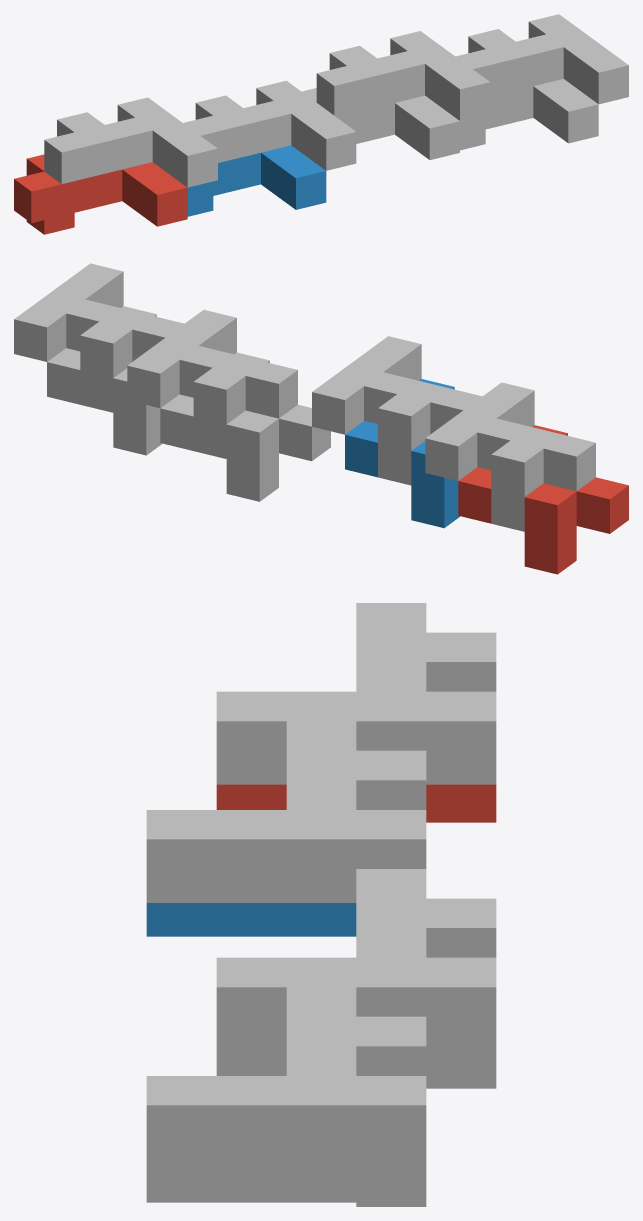
Rendered from tiling.obj.
3 renders of one model, top to bottom at view 1: azimuth 30°, elevation 25°; view 2: azimuth 150°, elevation 25°; view 3: azimuth 270°, elevation 25°, orthographic. The views are drawn at different scales.
Visible parts, largest first — view 1: copy_1_domain_3, copy_1_domain_7, copy_1_domain_4, copy_1_domain_8, copy_1_domain_1, copy_1_domain_2, copy_1_domain_6, copy_1_domain_5; view 2: copy_1_domain_3, copy_1_domain_7, copy_1_domain_4, copy_1_domain_8, copy_1_domain_1, copy_1_domain_5, copy_1_domain_6, copy_1_domain_2; view 3: copy_1_domain_8, copy_1_domain_4, copy_1_domain_3, copy_1_domain_7, copy_1_domain_6, copy_1_domain_2, copy_1_domain_1, copy_1_domain_5.
Boxes of the visible parts, x1,y1,x2,y2 form: copy_1_domain_3: [44, 97, 217, 187]; copy_1_domain_7: [316, 31, 490, 120]; copy_1_domain_4: [183, 80, 356, 170]; copy_1_domain_8: [455, 14, 628, 104]; copy_1_domain_1: [14, 154, 187, 234]; copy_1_domain_2: [187, 145, 326, 216]; copy_1_domain_6: [460, 79, 598, 150]; copy_1_domain_5: [302, 88, 459, 159]; copy_1_domain_3: [425, 382, 595, 531]; copy_1_domain_7: [127, 310, 297, 458]; copy_1_domain_4: [312, 336, 481, 485]; copy_1_domain_8: [14, 263, 183, 412]; copy_1_domain_1: [458, 425, 628, 574]; copy_1_domain_5: [160, 352, 330, 501]; copy_1_domain_6: [47, 306, 162, 455]; copy_1_domain_2: [345, 379, 459, 528]; copy_1_domain_8: [146, 987, 426, 1168]; copy_1_domain_4: [146, 721, 426, 902]; copy_1_domain_3: [216, 603, 496, 784]; copy_1_domain_7: [216, 869, 496, 1050]; copy_1_domain_6: [146, 1169, 426, 1206]; copy_1_domain_2: [146, 903, 356, 936]; copy_1_domain_1: [216, 784, 496, 822]; copy_1_domain_5: [216, 1050, 496, 1088].
Size of the model in its own units: 18 by 3 by 5.
